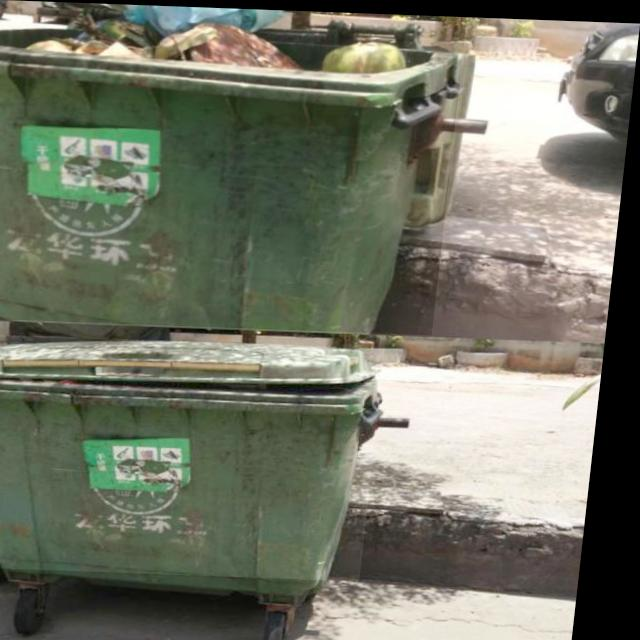garbage_bin: (0, 333, 393, 578)
overflow: (0, 0, 467, 332)
